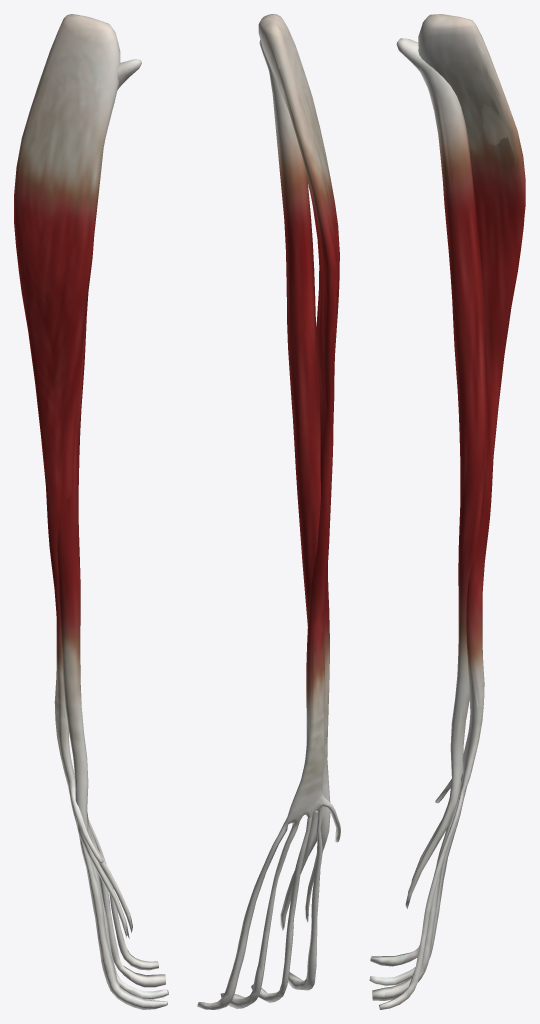
File: L Superficial Digital Flexor.fbx
3 views of the same model, side by side, from view 1: azimuth 90°, elevation 25°; view 2: azimuth 210°, elevation 25°; view 3: azimuth 270°, elevation 25° (orthographic). The views are drawn at different scales.
Visible parts, largest first — view 1: L Superficial Digital Flexor, L Superficial Digital Flexor low, L Superficial Digital Flexor high; view 2: L Superficial Digital Flexor, L Superficial Digital Flexor low, L Superficial Digital Flexor high; view 3: L Superficial Digital Flexor, L Superficial Digital Flexor low, L Superficial Digital Flexor high.
Boxes of the visible parts, x1,y1,x2,y2 form: L Superficial Digital Flexor: (14, 14, 168, 1009); L Superficial Digital Flexor low: (14, 15, 167, 1009); L Superficial Digital Flexor high: (15, 18, 167, 1001); L Superficial Digital Flexor: (197, 14, 340, 1009); L Superficial Digital Flexor low: (198, 17, 339, 1008); L Superficial Digital Flexor high: (202, 19, 339, 1006); L Superficial Digital Flexor: (369, 14, 525, 1009); L Superficial Digital Flexor low: (371, 14, 525, 1009); L Superficial Digital Flexor high: (370, 17, 523, 1006).
Bounding box in the file's own units: 1.61 × 13.82 × 2.
